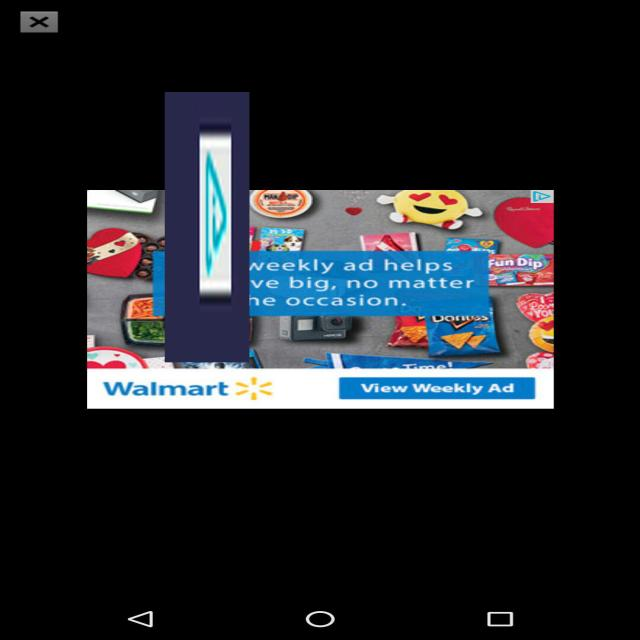sneaking: (165, 92, 249, 362)
